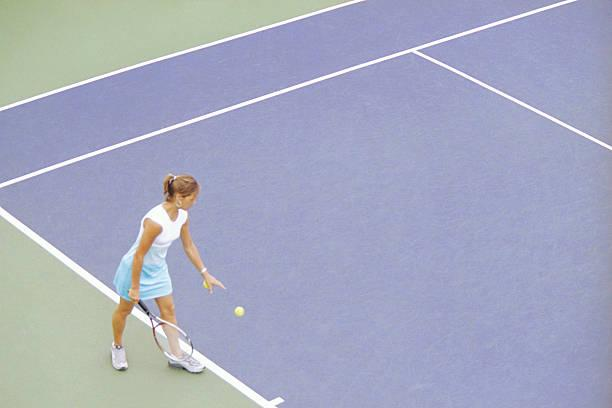ball_tennis: (234, 307, 246, 318)
